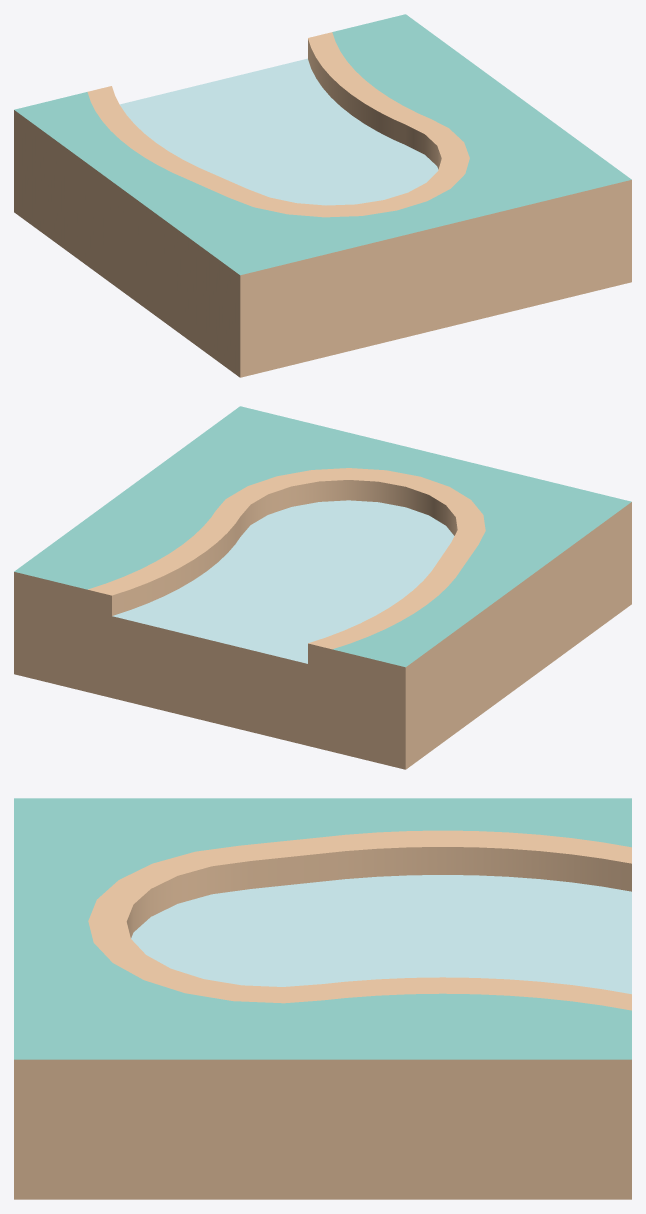
File: ground_dirtRiverEnd.glb
3 renders of one model, top to bottom at view 1: azimuth 30°, elevation 25°; view 2: azimuth 150°, elevation 25°; view 3: azimuth 270°, elevation 25°, orthographic. The views are drawn at different scales.
Parts seen in each view (by area): view 1: ground_dirtRiverEnd; view 2: ground_dirtRiverEnd; view 3: ground_dirtRiverEnd.
Part boxes in pixels (x1=…): ground_dirtRiverEnd: x1=14, y1=14, x2=631, y2=377; ground_dirtRiverEnd: x1=14, y1=406, x2=631, y2=769; ground_dirtRiverEnd: x1=14, y1=798, x2=631, y2=1199.
Size of the model in its own units: 10 by 2.5 by 10.
